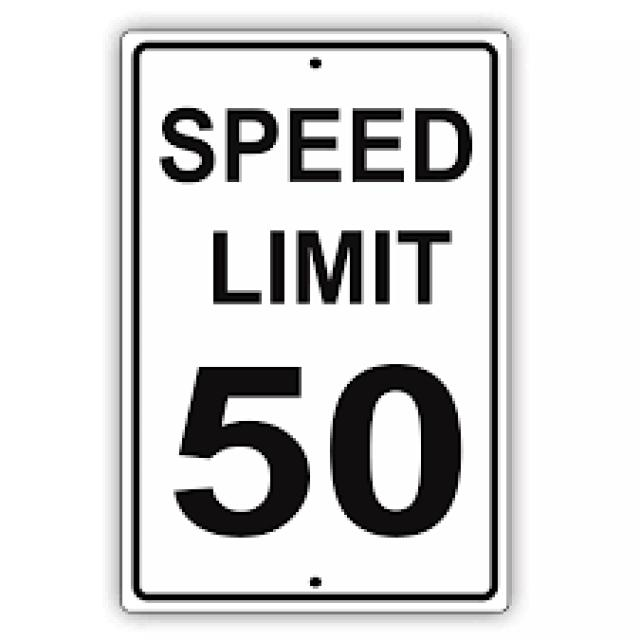speedLimit50: (122, 33, 509, 610)
